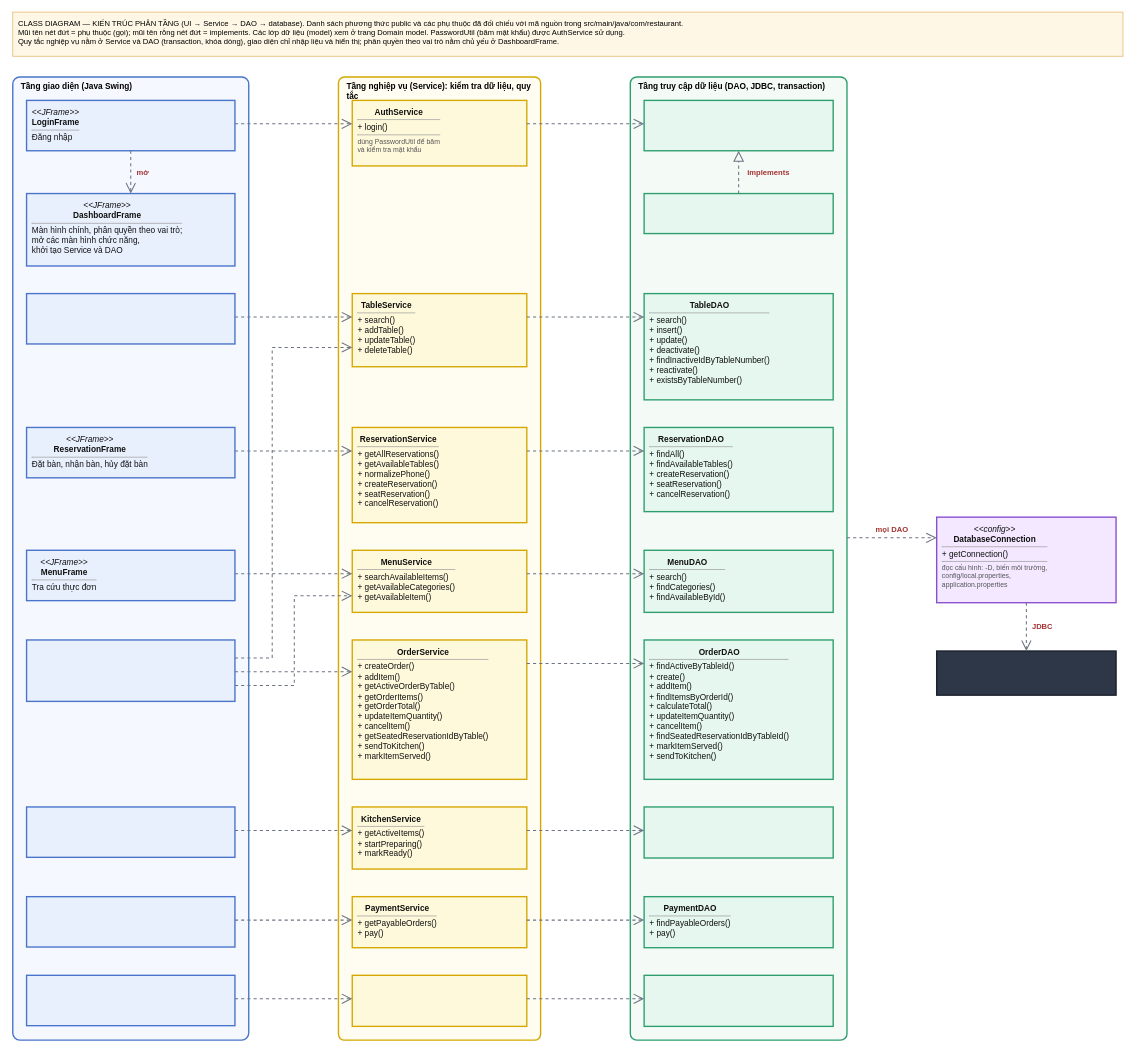
This 1135x1053 diagram has some shape labels left out. The centre of each missing label's shape, as x and y in pixels:
<<interface>> UserRepository + findActiveByUsername(): (738,125)
<<JFrame>> KitchenFrame Xử lý món tại bếp: (130,832)
<<JFrame>> OrderFrame Tạo đơn gọi món, gửi bếp, xác nhận phục vụ: (130,670)
<<JFrame>> PaymentFrame Thanh toán và hóa đơn: (130,921)
<<JFrame>> RevenueReportFrame Báo cáo doanh thu: (130,1000)
<<JFrame>> TableManagementFrame Quản lý bàn: (130,318)
KitchenDAO + findActiveItems() + updateStatus(): (738,832)
MariaDB restaurant_management: (1026,673)
RevenueReportDAO + getSummary() + findRecords(): (738,1000)
RevenueReportService + getSummary() + findRecords(): (439,1000)
UserDAO + findActiveByUsername(): (738,213)
